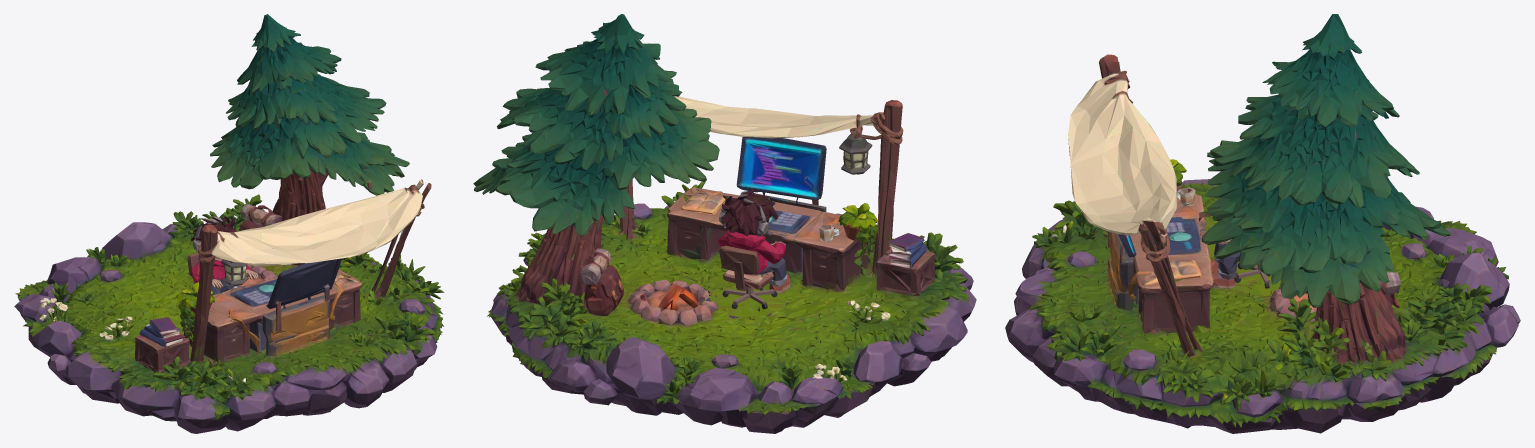
File: island.glb
The picture shows the model from 3 angles, left to right: view 1: azimuth 30°, elevation 25°; view 2: azimuth 150°, elevation 25°; view 3: azimuth 270°, elevation 25°; orthographic projection. The views are drawn at different scales.
Parts seen in each view (by area): view 1: Anastasiia trial ground export, model_part4 export, model_part2 export, Anastasiia trial desk export, Anastasiia trial character export; view 2: Anastasiia trial ground export, model_part4 export, Anastasiia trial desk export, model_part2 export, Anastasiia trial character export, Anastasiia trial grass export, Anastasiia trial chair export; view 3: Anastasiia trial ground export, model_part4 export, model_part2 export, Anastasiia trial desk export, Anastasiia trial grass export.
Part boxes in pixels (x1=…): Anastasiia trial ground export: x1=14, y1=194, x2=444, y2=433; model_part4 export: x1=210, y1=14, x2=409, y2=265; model_part2 export: x1=193, y1=179, x2=431, y2=360; Anastasiia trial desk export: x1=176, y1=258, x2=361, y2=362; Anastasiia trial character export: x1=187, y1=215, x2=253, y2=292; Anastasiia trial ground export: x1=487, y1=181, x2=976, y2=433; model_part4 export: x1=473, y1=14, x2=719, y2=274; Anastasiia trial desk export: x1=667, y1=137, x2=878, y2=289; model_part2 export: x1=620, y1=96, x2=903, y2=277; Anastasiia trial character export: x1=718, y1=189, x2=785, y2=290; Anastasiia trial grass export: x1=709, y1=285, x2=786, y2=317; Anastasiia trial chair export: x1=722, y1=287, x2=777, y2=309; Anastasiia trial ground export: x1=1005, y1=179, x2=1520, y2=433; model_part4 export: x1=1199, y1=14, x2=1450, y2=362; model_part2 export: x1=1068, y1=54, x2=1192, y2=356; Anastasiia trial desk export: x1=1107, y1=159, x2=1213, y2=328; Anastasiia trial grass export: x1=1230, y1=264, x2=1280, y2=295.
Size of the model in its own units: 1.9 by 1.48 by 1.86.
4 materials, 1 textured.
